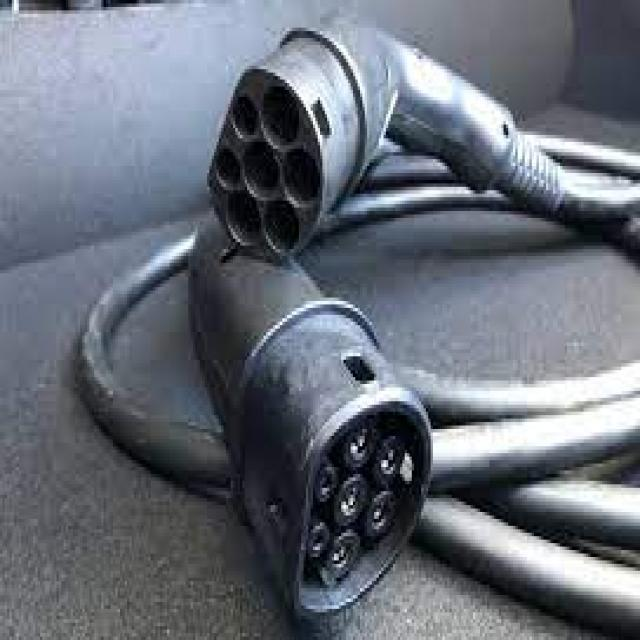Type 2: (245, 390, 475, 625), (163, 41, 377, 252)
